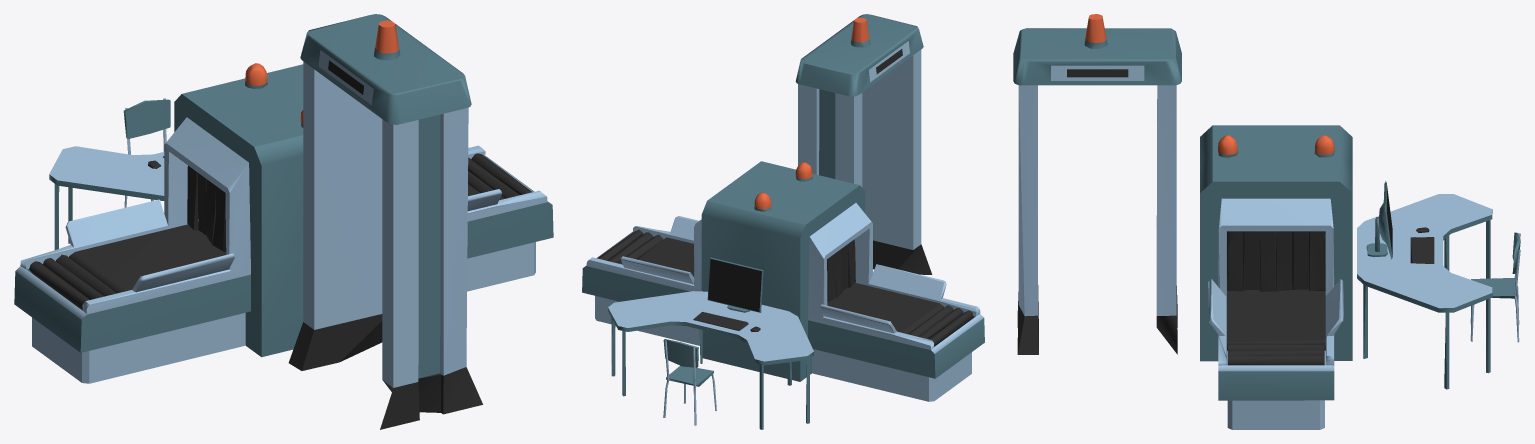
Rendered from 09.SecurityCheck_LOD2.fbx.
The picture shows the model from 3 angles, left to right: view 1: azimuth 30°, elevation 25°; view 2: azimuth 150°, elevation 25°; view 3: azimuth 270°, elevation 25°; orthographic projection. The views are drawn at different scales.
Parts seen in each view (by area): view 1: _09_SecurityCheck; view 2: _09_SecurityCheck; view 3: _09_SecurityCheck.
Boxes of the visible parts, <box> form: _09_SecurityCheck: <box>14,14,553,429</box>; _09_SecurityCheck: <box>582,14,984,429</box>; _09_SecurityCheck: <box>1013,14,1520,429</box>.
Size of the model in its own units: 495 by 361 by 525.
1 material, 1 textured.
